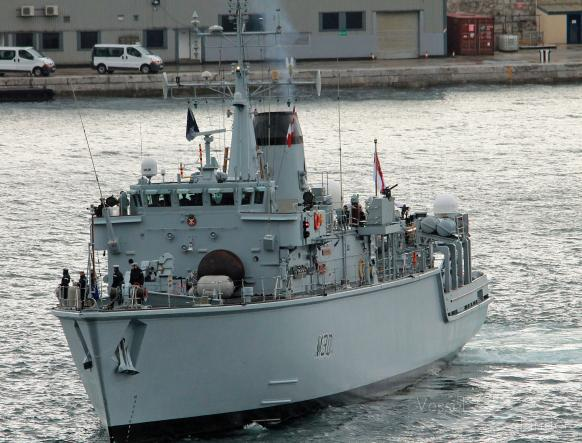OCR: (312, 327, 338, 360)
